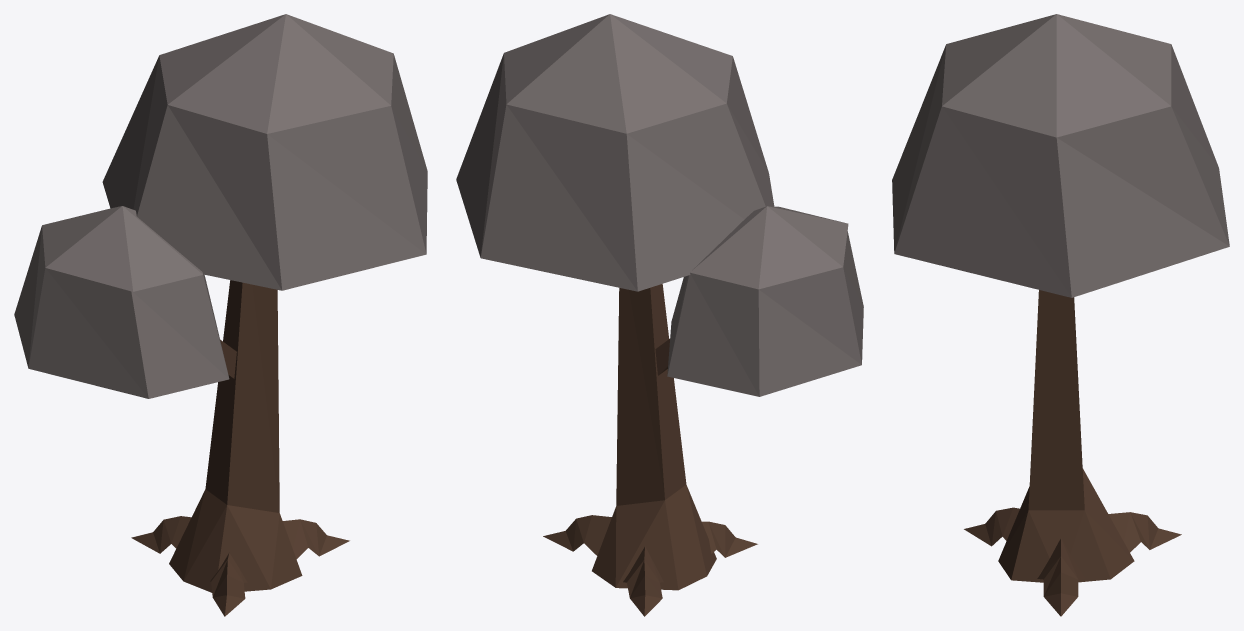
The picture shows the model from 3 angles, left to right: view 1: azimuth 30°, elevation 25°; view 2: azimuth 150°, elevation 25°; view 3: azimuth 270°, elevation 25°; orthographic projection. The views are drawn at different scales.
Bounding box in the file's own units: 226 × 290 × 156.
Materials: 1 (1 with a texture image).
